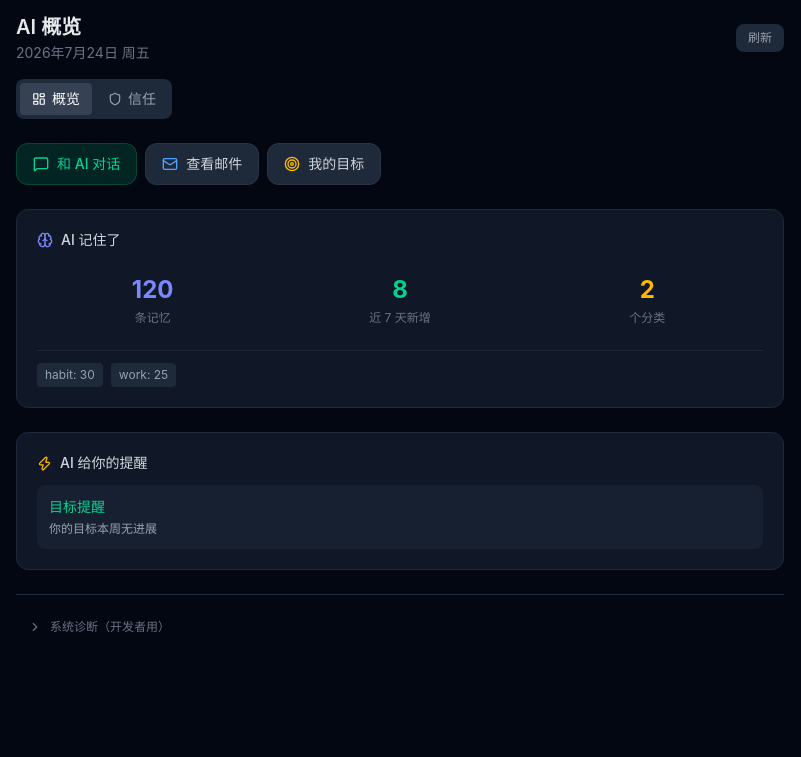
Test case: DashboardPage › shows system diagnostics when expanded
Click the button "系统诊断（开发者用）".
click(110, 626)  # box [16,611,784,643]
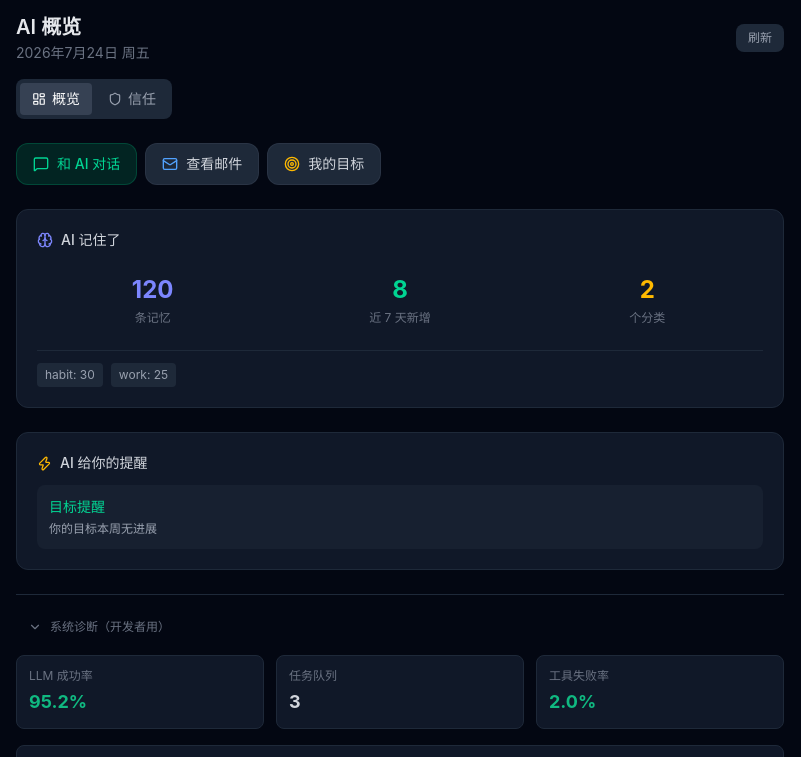
Expected: the text "LLM 成功率" is shown, [29,668,93,683]
Expected: the text "95.2%" is shown, [29,691,87,712]
